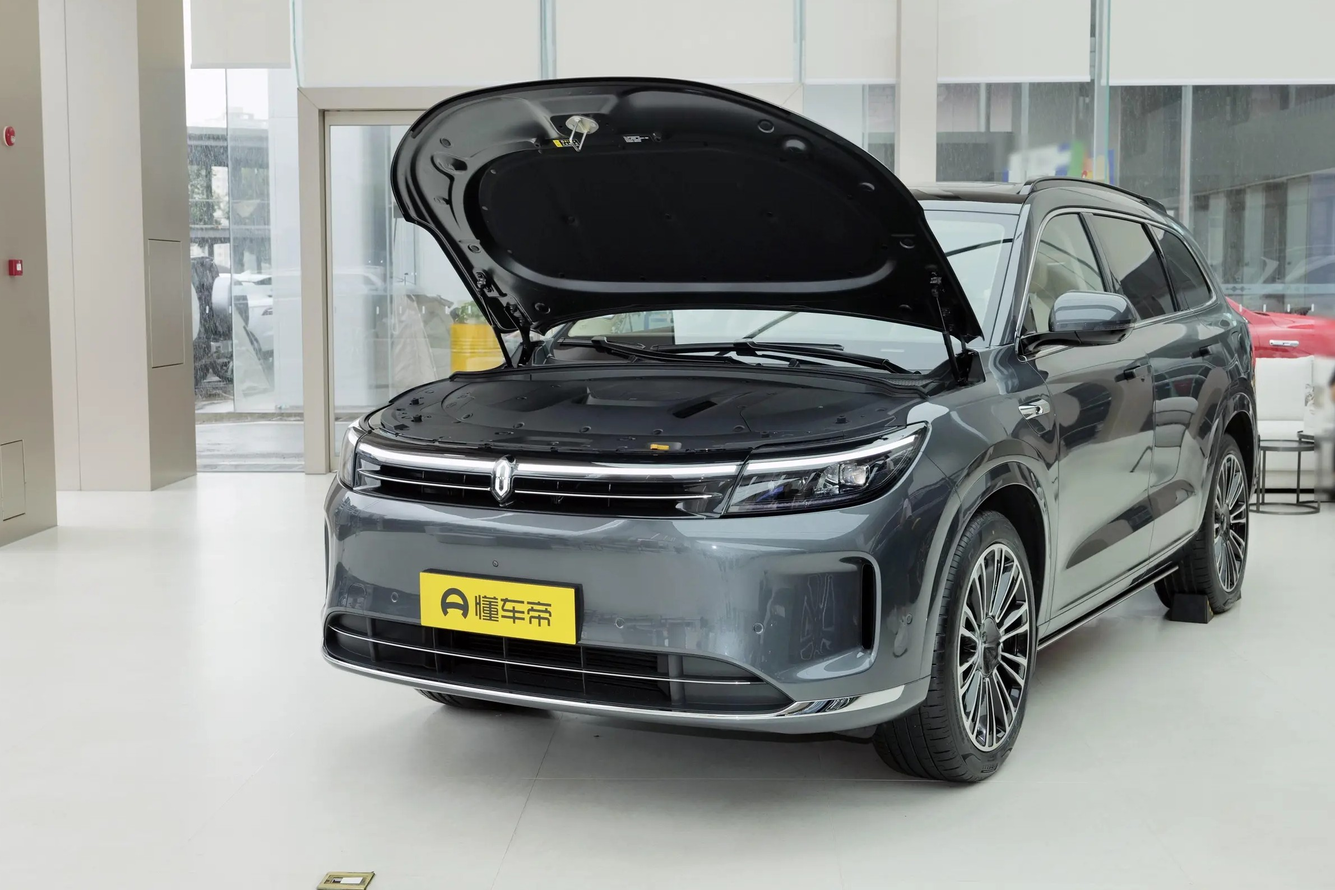AITO: (495, 462, 509, 495)
